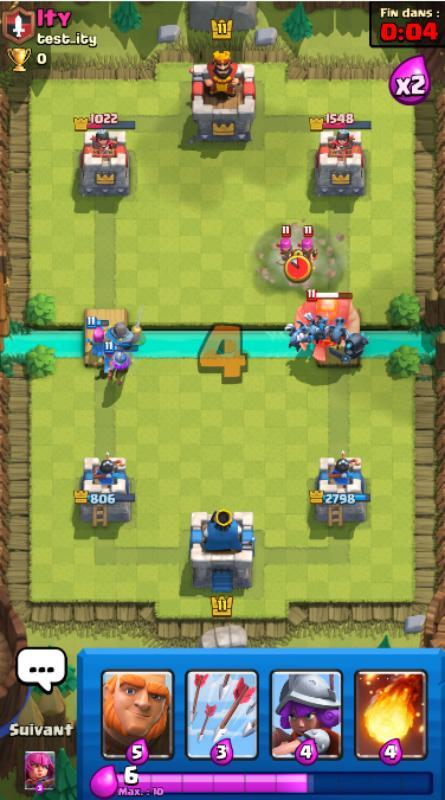archere: (82, 316, 109, 358), (296, 225, 320, 270), (276, 225, 296, 266), (97, 342, 119, 375)
chevalier: (102, 308, 146, 358)
gargouille: (300, 311, 329, 346), (284, 320, 313, 352), (325, 316, 352, 349)
geant: (293, 289, 362, 363)
mini_PEKKA: (328, 329, 372, 366)
mousquetaire: (100, 340, 140, 385)
